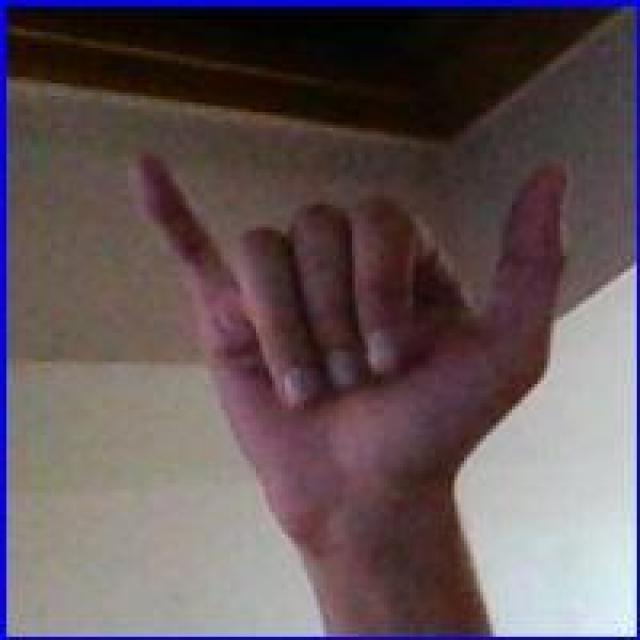Y: (125, 140, 579, 522)
